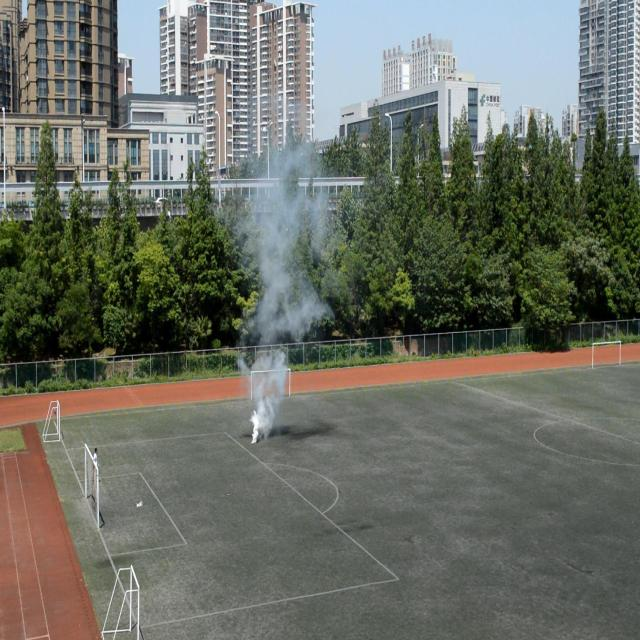smoke: (236, 94, 332, 439)
